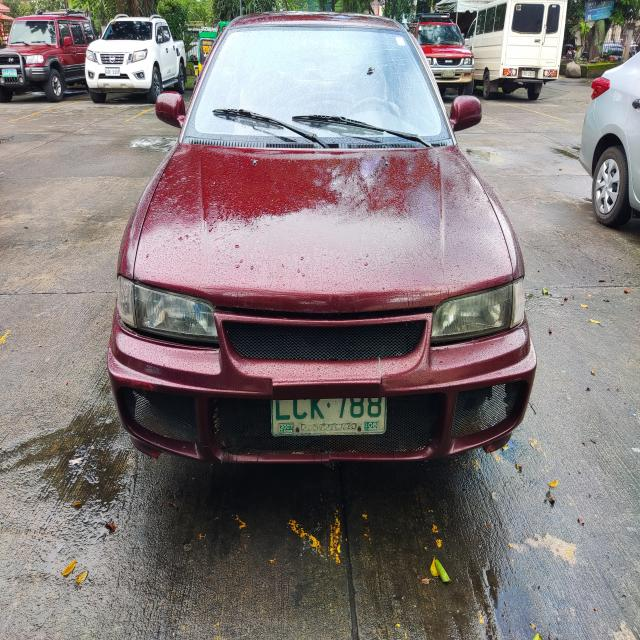plate: (268, 382, 389, 437)
